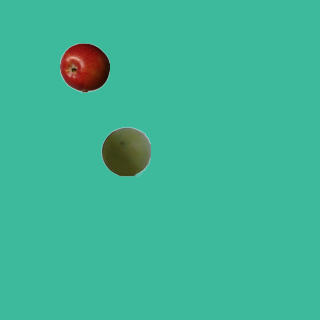Apple Braeburn: (59, 42, 109, 92)
Grape White 4: (100, 126, 150, 176)
